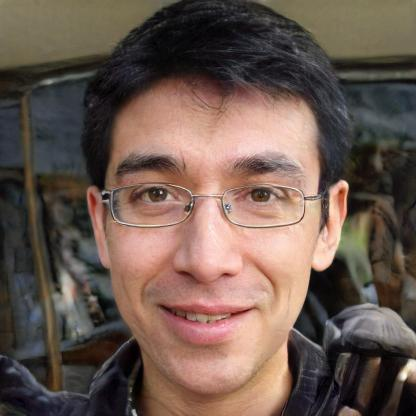glasses: (102, 180, 312, 233)
